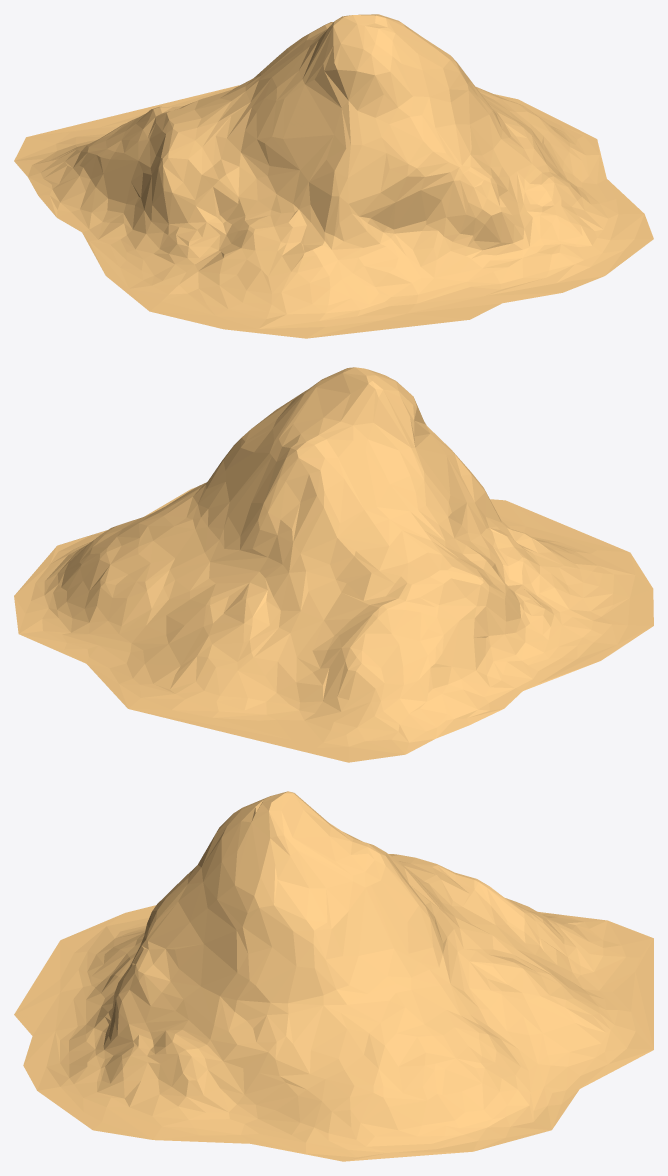
The model's file is Terrain 03.FBX.
3 views of the same model, one above another, from view 1: azimuth 30°, elevation 25°; view 2: azimuth 150°, elevation 25°; view 3: azimuth 270°, elevation 25° (orthographic). The views are drawn at different scales.
Visible parts, largest first — view 1: plane; view 2: plane; view 3: plane.
Boxes of the visible parts, x1=… form: plane: x1=14, y1=14, x2=653, y2=338; plane: x1=14, y1=367, x2=653, y2=762; plane: x1=14, y1=791, x2=653, y2=1161.
Bounding box in the file's own units: 101 × 39.69 × 102.
